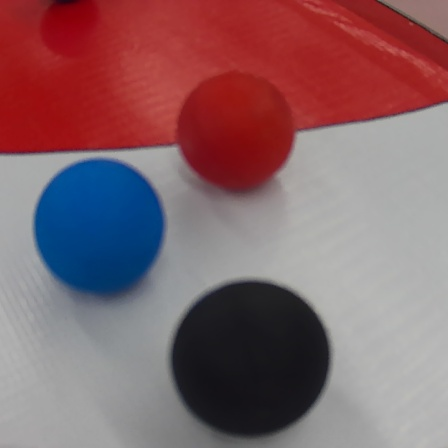black: (171, 278, 331, 436)
blue: (30, 155, 167, 298)
red: (177, 71, 297, 190)
red_base: (0, 0, 440, 146)
